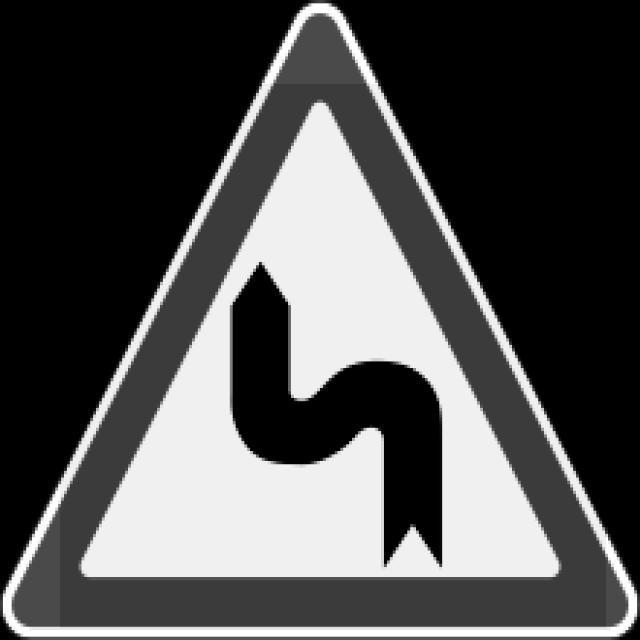left reverse bend: (37, 26, 602, 623)
